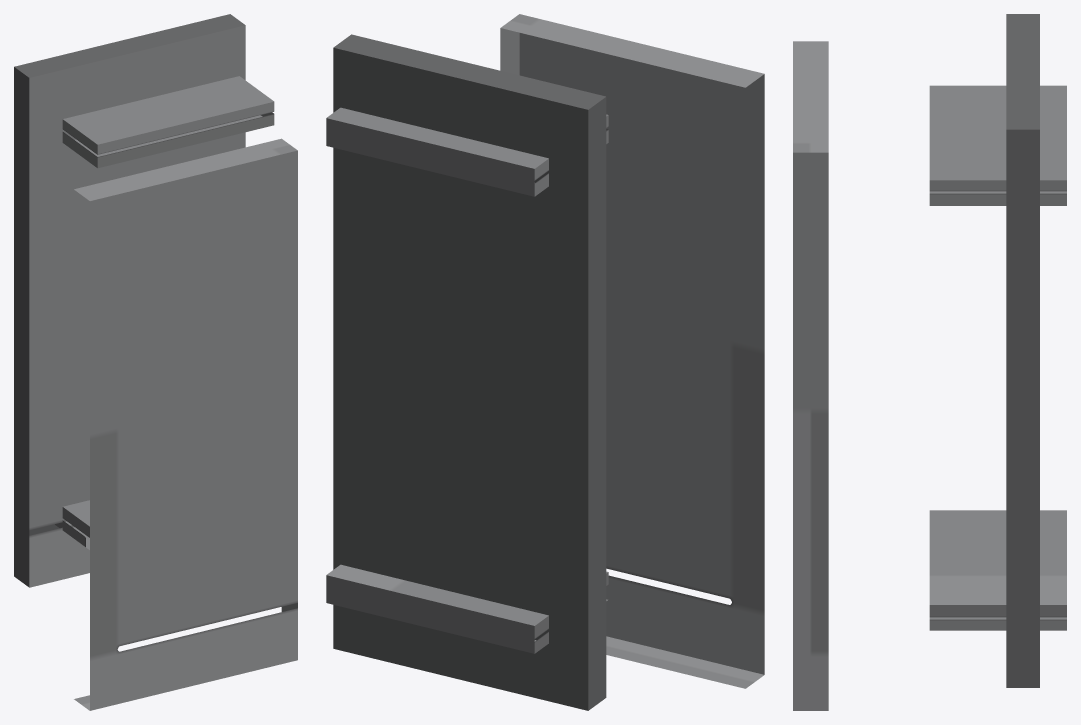
3 views of the same model, side by side, from view 1: azimuth 30°, elevation 25°; view 2: azimuth 150°, elevation 25°; view 3: azimuth 270°, elevation 25° (orthographic). The views are drawn at different scales.
Size of the model in its own units: 0.2813 by 0.5869 by 0.2405.
